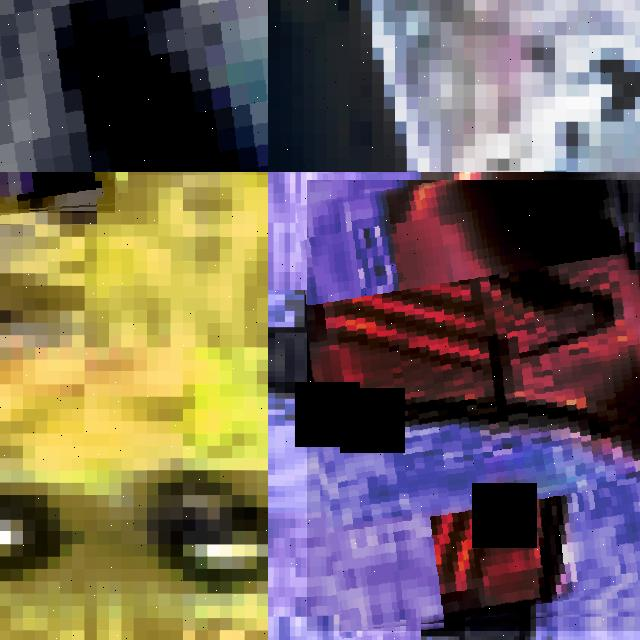arms: (268, 203, 640, 640), (307, 180, 640, 631), (0, 0, 268, 172), (146, 458, 268, 605), (0, 483, 84, 594), (0, 172, 115, 213)
